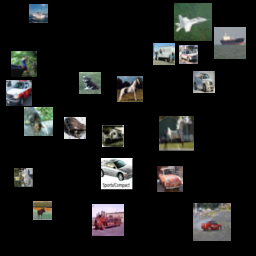airplane: (72, 49, 101, 78)
automobile: (169, 67, 195, 93)
bird: (214, 204, 249, 239), (10, 214, 45, 249), (21, 27, 43, 49), (206, 111, 225, 130)
cat: (157, 183, 195, 221), (83, 12, 105, 34), (175, 147, 197, 169), (12, 152, 31, 171), (147, 41, 166, 60)
frog: (79, 96, 105, 122), (109, 8, 135, 34), (140, 99, 156, 115)
ship: (26, 87, 61, 122), (210, 46, 242, 78), (212, 164, 234, 186)
